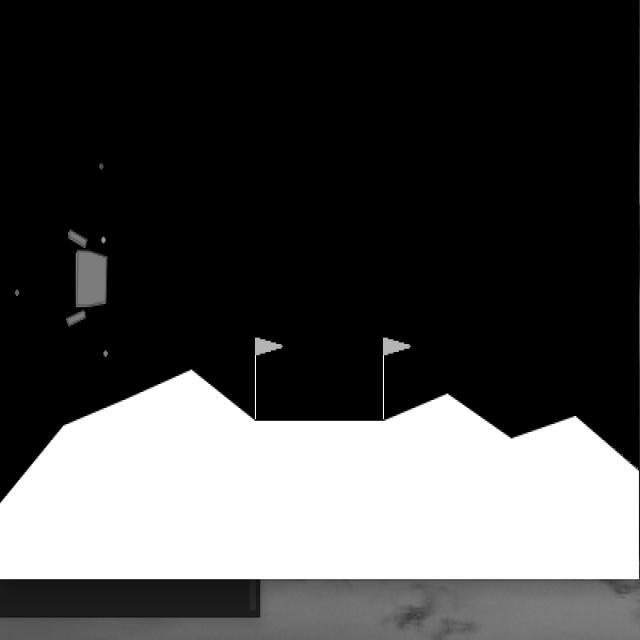lander: (67, 229, 107, 326)
landing_point: (254, 334, 387, 422)
